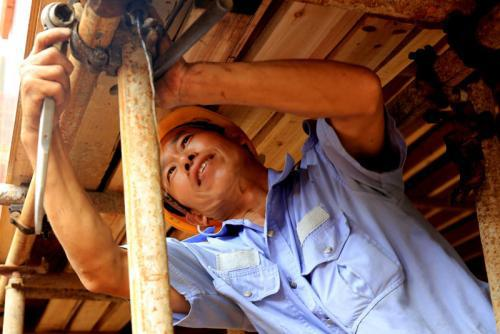helmet: (144, 82, 283, 230)
